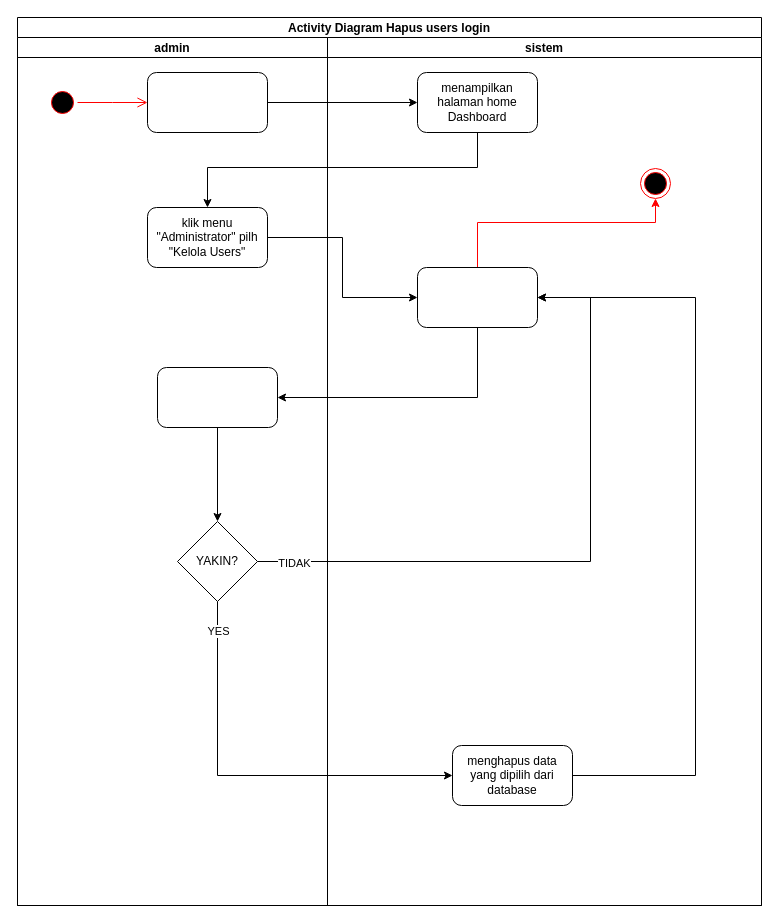
This 779x923 diagram has some shape labels left out. The shapes that lost their labels are listed below. From the top down, each one's centre as x and y in pixels, then its label:
(x=207, y=102): Login
(x=477, y=297): menampilkan halaman data akun users login
(x=217, y=397): klik "hapus" pada data di table daftar users login
